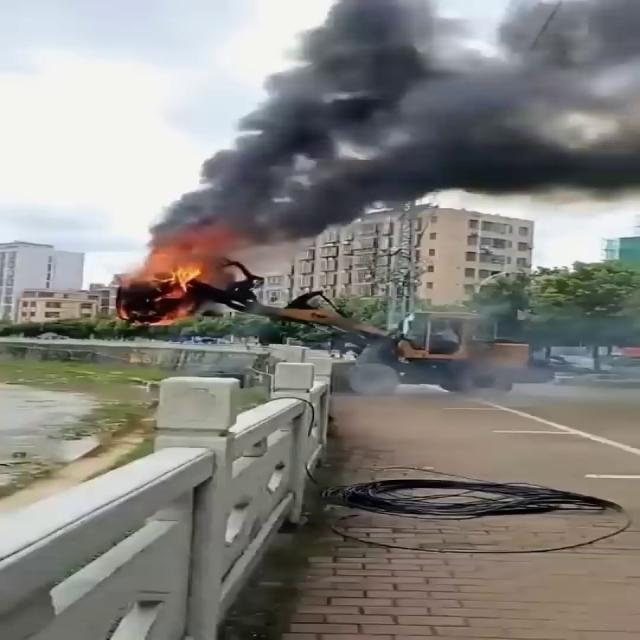Fire: (134, 253, 212, 308)
Smoke: (155, 0, 640, 250)
